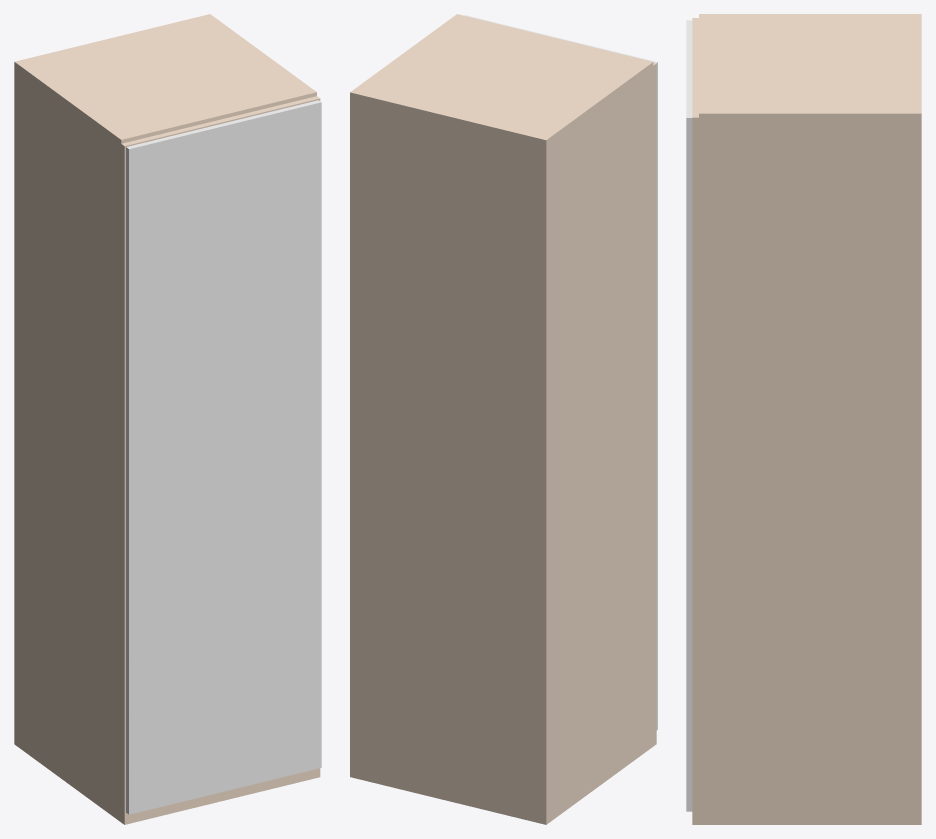
The model's file is KTCH_ELIX_Cabinet_60_60_200.FBX.
3 views of the same model, side by side, from view 1: azimuth 30°, elevation 25°; view 2: azimuth 150°, elevation 25°; view 3: azimuth 270°, elevation 25° (orthographic). The views are drawn at different scales.
Visible parts, largest first — view 1: KTCH_ELIX_Cabinet_60_60_200; view 2: KTCH_ELIX_Cabinet_60_60_200; view 3: KTCH_ELIX_Cabinet_60_60_200.
Boxes of the visible parts, box(x1,y1,x2,y2) form: KTCH_ELIX_Cabinet_60_60_200: box(14, 14, 321, 824); KTCH_ELIX_Cabinet_60_60_200: box(350, 14, 657, 824); KTCH_ELIX_Cabinet_60_60_200: box(686, 14, 921, 824).
Size of the model in its own units: 60 by 60 by 200.
